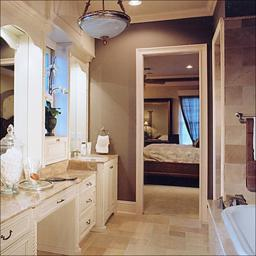Cama: (146, 142, 198, 184)
Ducha: (210, 25, 254, 196)
